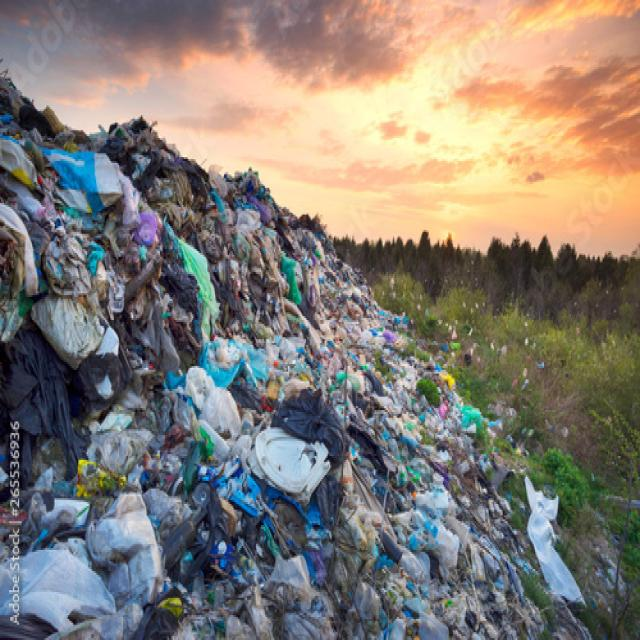plastic: (259, 432, 320, 494)
trash: (9, 100, 270, 378), (91, 429, 260, 640), (372, 337, 470, 615)
